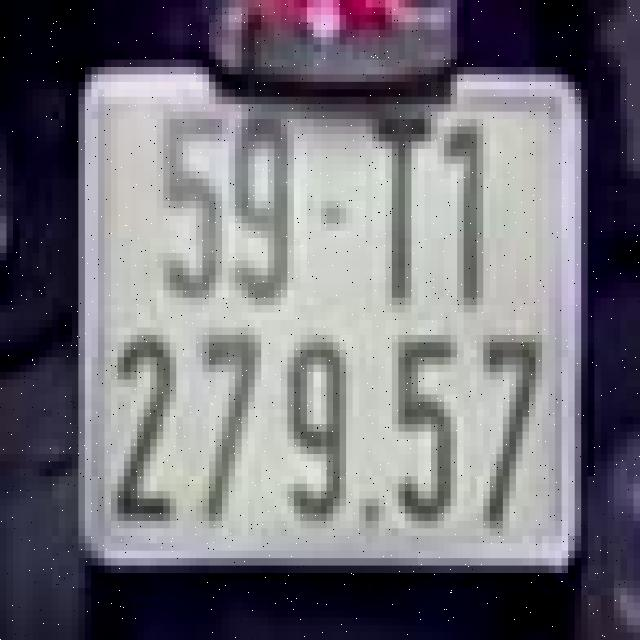1: (438, 111, 497, 312)
2: (104, 327, 183, 536)
5: (382, 320, 460, 543), (153, 104, 232, 298)
7: (193, 328, 271, 544), (474, 323, 546, 524)
9: (280, 331, 352, 540), (235, 100, 301, 309)
T: (362, 108, 434, 316)
